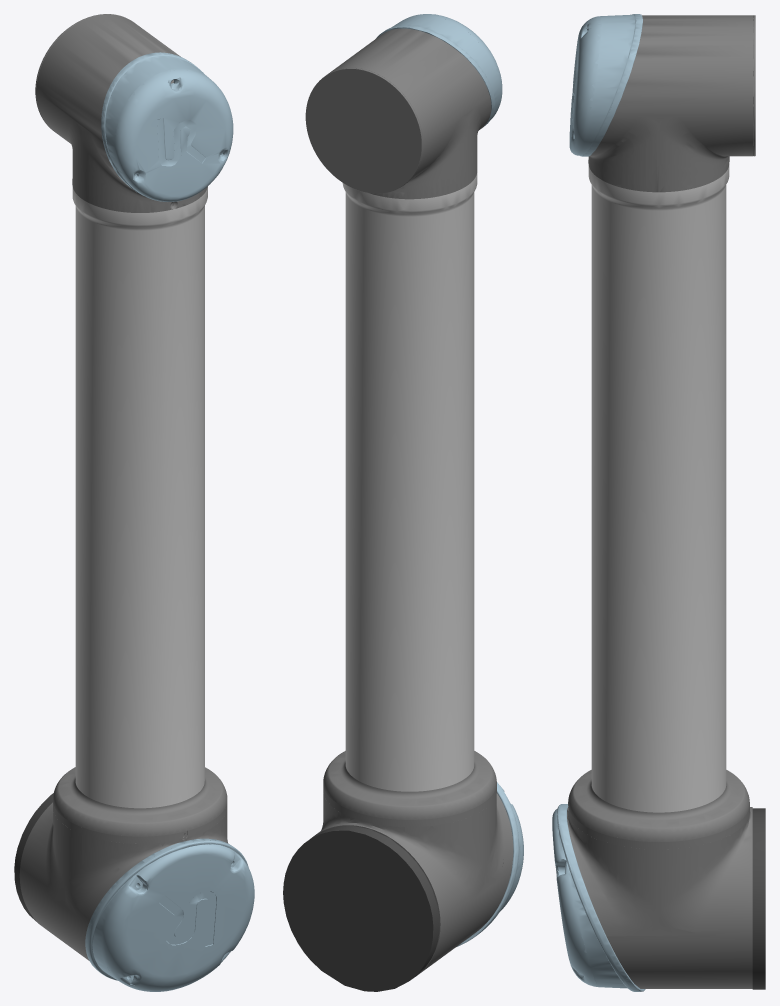
File: forearm.dae
3 views of the same model, side by side, from view 1: azimuth 30°, elevation 25°; view 2: azimuth 150°, elevation 25°; view 3: azimuth 270°, elevation 25° (orthographic). The views are drawn at different scales.
Visible parts, largest first — view 1: node-shape3-name, node-shape1-name, node-shape0-name, node-shape4-name; view 2: node-shape3-name, node-shape0-name, node-shape4-name, node-shape1-name; view 3: node-shape3-name, node-shape0-name, node-shape1-name, node-shape4-name.
Boxes of the visible parts, x1,y1,x2,y2 form: node-shape3-name: (72,186,207,808); node-shape1-name: (85,52,254,991); node-shape0-name: (19,14,228,960); node-shape4-name: (14,793,53,923); node-shape3-name: (342,173,477,791); node-shape0-name: (305,28,513,974); node-shape4-name: (283,825,439,991); node-shape1-name: (376,14,523,946); node-shape3-name: (588,165,729,812); node-shape0-name: (567,15,755,988); node-shape1-name: (552,14,645,991); node-shape4-name: (752,808,765,989).
Size of the model in its own units: 0.12 by 0.1362 by 0.6775.
